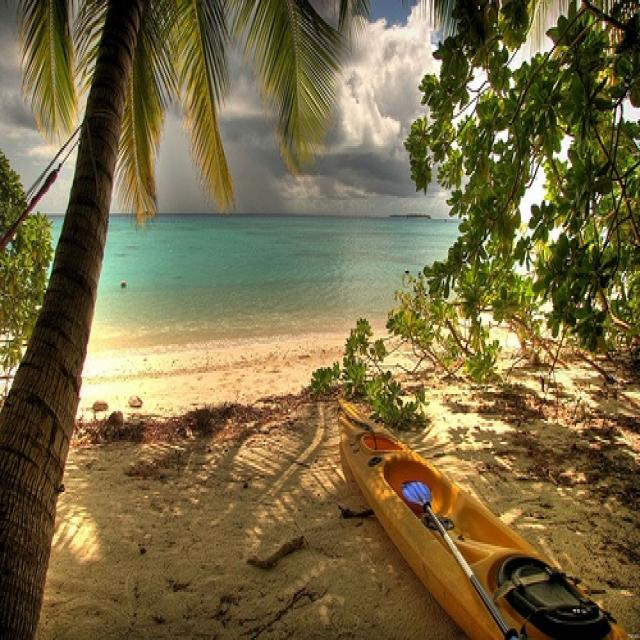boat: (331, 395, 640, 639)
